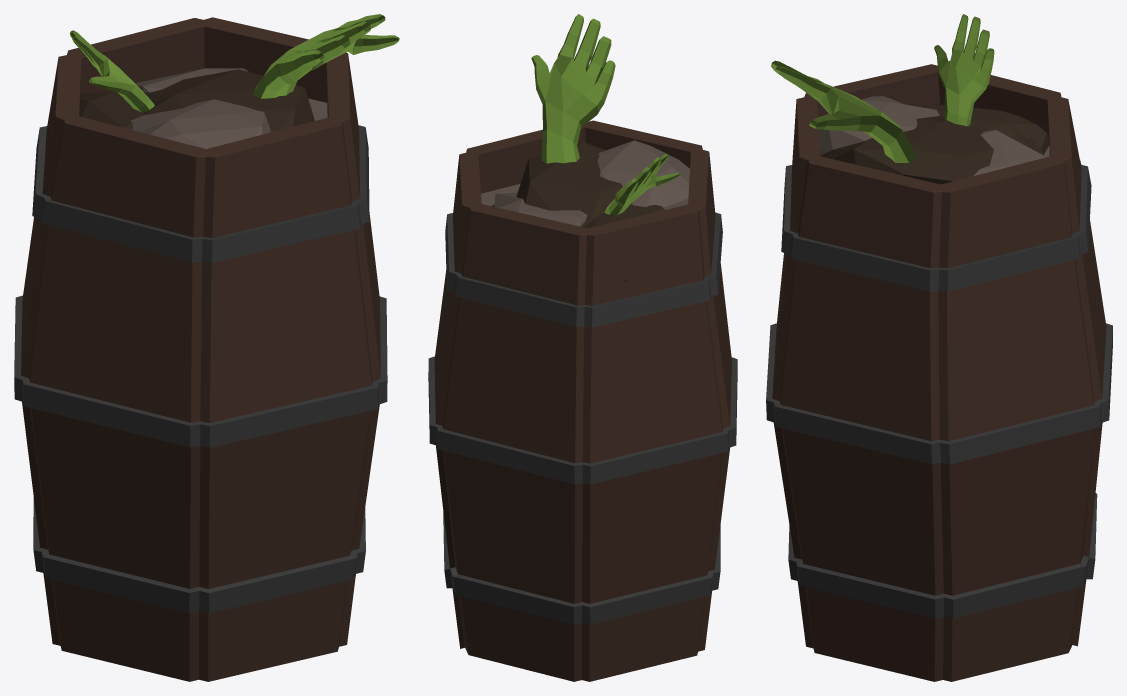
File: SM_Getarmbin.fbx
3 views of the same model, side by side, from view 1: azimuth 30°, elevation 25°; view 2: azimuth 150°, elevation 25°; view 3: azimuth 270°, elevation 25° (orthographic). The views are drawn at different scales.
Visible parts, largest first — view 1: Cylinder037; view 2: Cylinder037; view 3: Cylinder037.
Part boxes in pixels (bbox=[...]): Cylinder037: bbox=[14, 14, 399, 681]; Cylinder037: bbox=[428, 14, 737, 681]; Cylinder037: bbox=[766, 14, 1112, 681].
Size of the model in its own units: 105 by 178 by 94.27.
